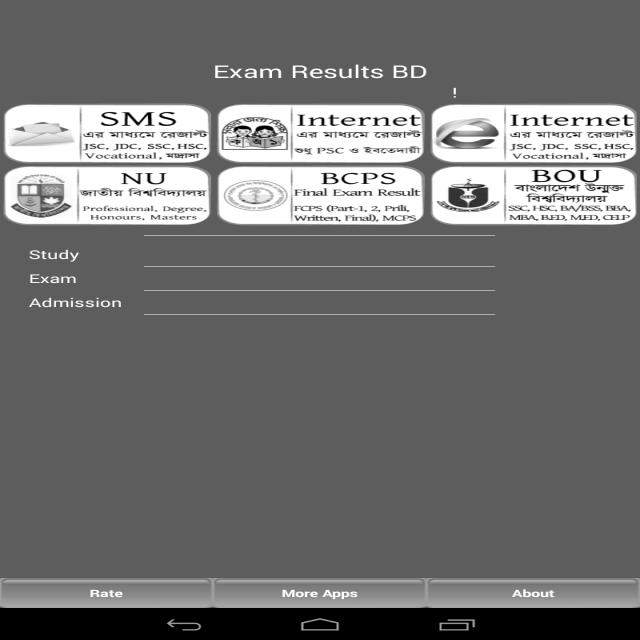ImageView: (431, 179, 503, 213), (212, 179, 282, 213), (223, 117, 284, 153), (433, 115, 499, 148), (6, 114, 70, 148), (11, 175, 71, 211)
TextView: (22, 247, 131, 311), (511, 168, 626, 222), (205, 59, 438, 85), (512, 105, 626, 158), (82, 169, 196, 219), (293, 170, 411, 218), (296, 109, 417, 155), (84, 109, 198, 157)
